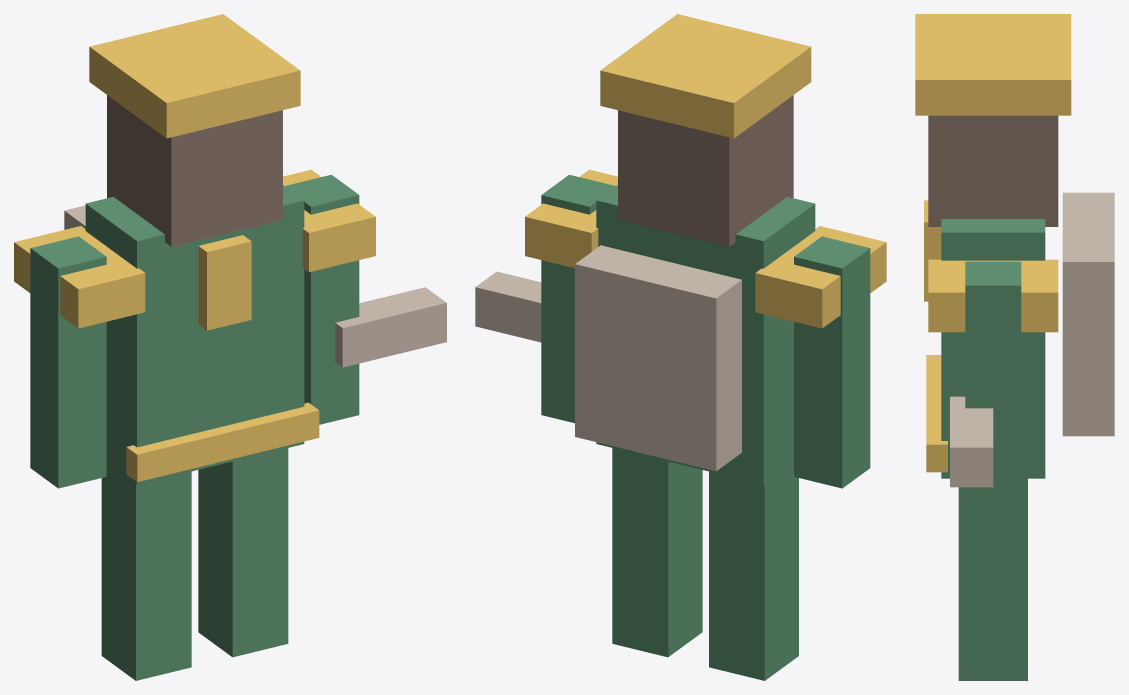
File: 05_auren_echohand_navigator_at.glb
3 renders of one model, left to right at view 1: azimuth 30°, elevation 25°; view 2: azimuth 150°, elevation 25°; view 3: azimuth 270°, elevation 25°, orthographic.
Visible parts, largest first — view 1: Auren Echohand, Navigator at; view 2: Auren Echohand, Navigator at; view 3: Auren Echohand, Navigator at.
Boxes of the visible parts, x1,y1,x2,y2 form: Auren Echohand, Navigator at: (14, 14, 446, 680); Auren Echohand, Navigator at: (475, 14, 886, 680); Auren Echohand, Navigator at: (915, 14, 1114, 680).
Bounding box in the file's own units: 0.9984 × 1.48 × 0.448.
